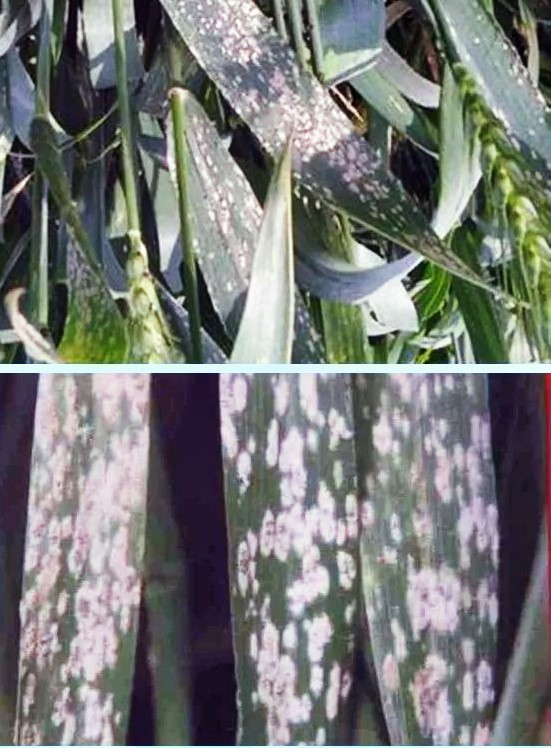Powdery Mildew: (222, 374, 376, 725), (195, 3, 391, 210)
